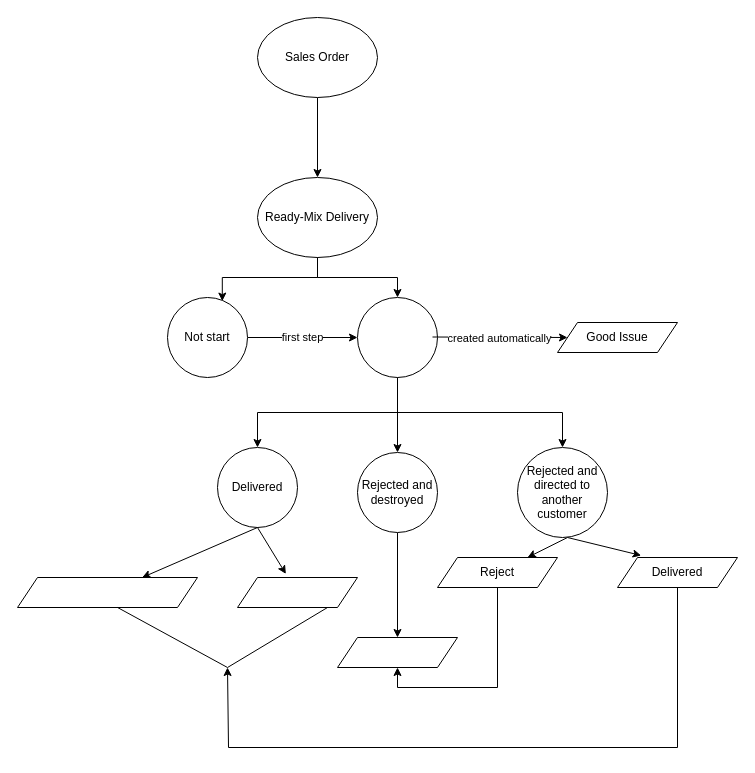
The diagram is 755 pixels wide and 773 high, and some of its shapes have lost their labels. Each missing label, with the centre of its shape:
"Create sales invoice manually" goes at point 107,592.
"Journal" goes at point 297,592.
"On Way" goes at point 397,337.
"Scrap Journal" goes at point 397,652.
